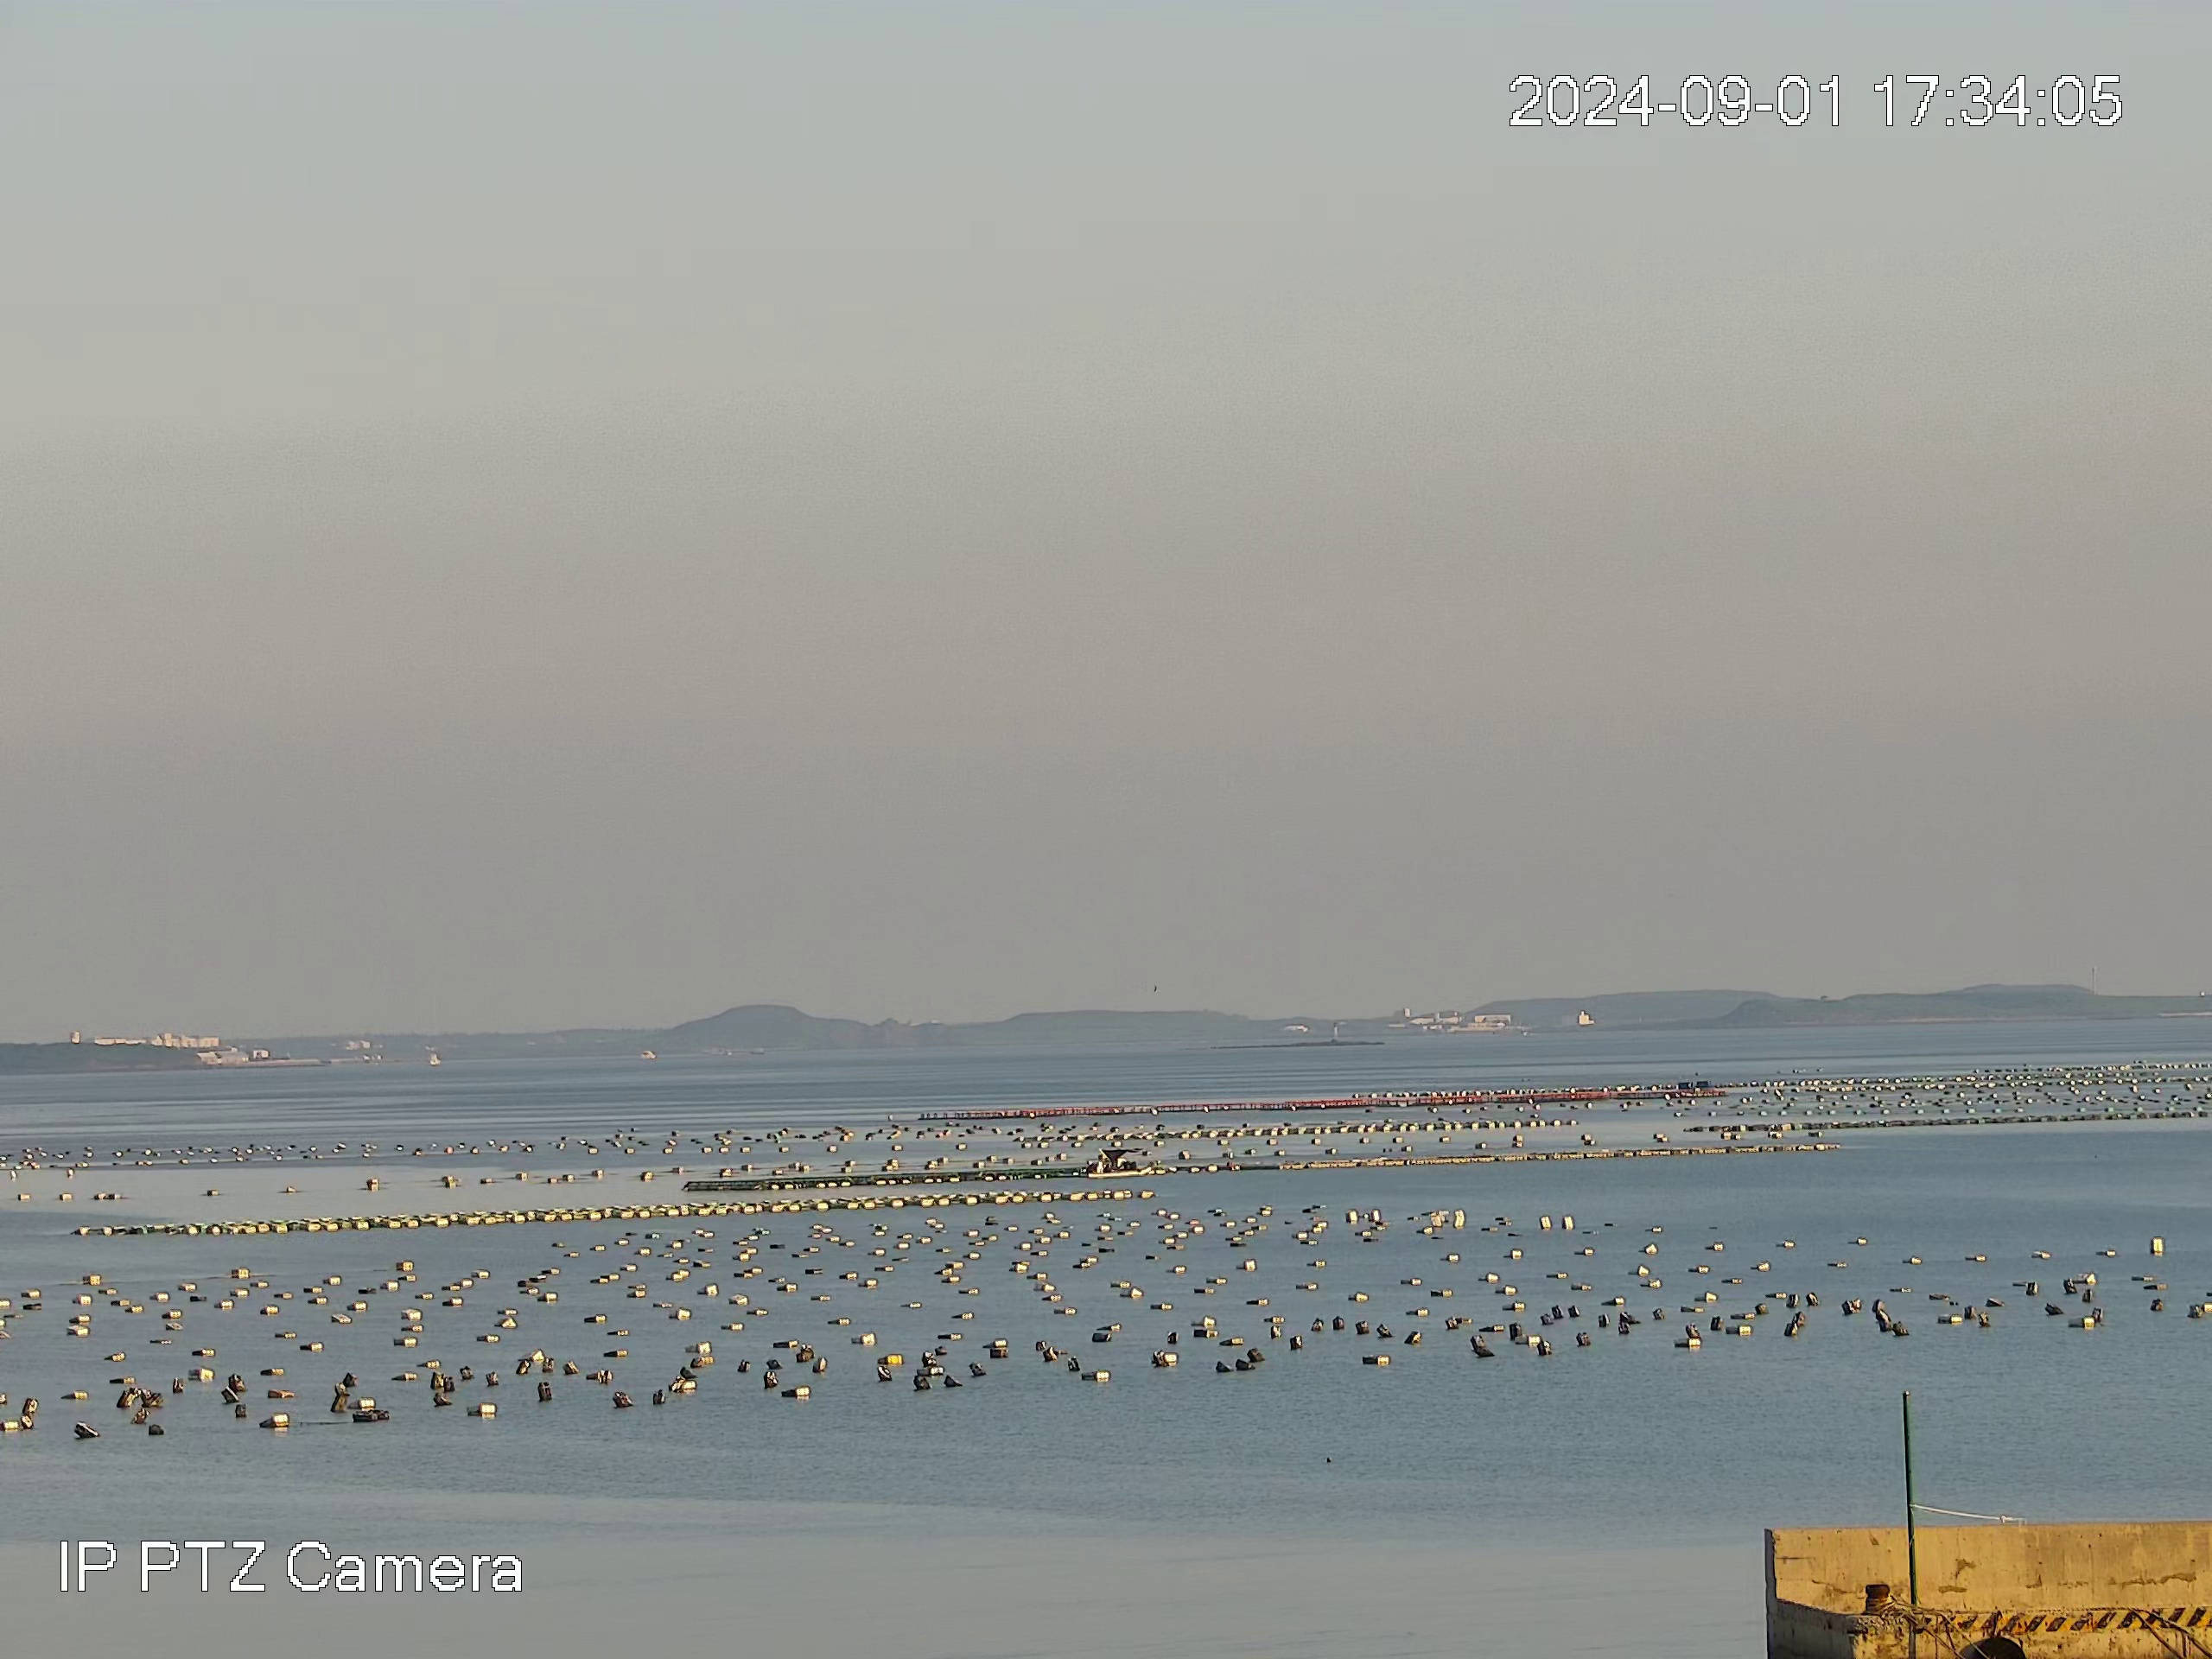boat: (1085, 1143, 1157, 1182)
